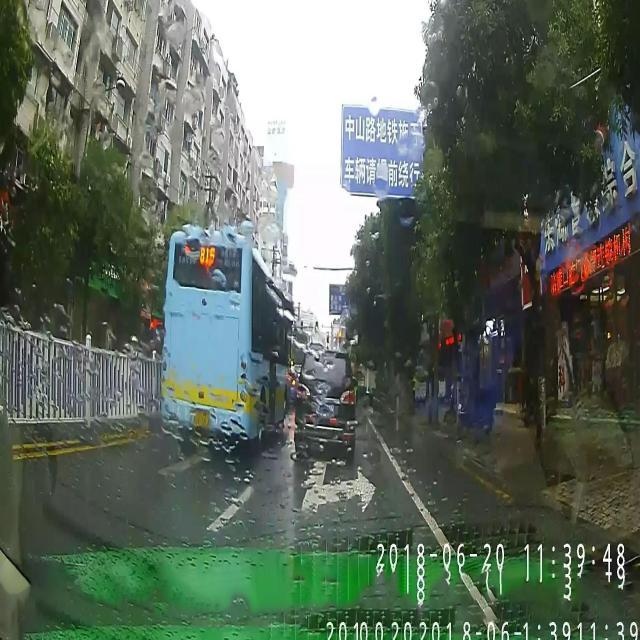car: (294, 342, 356, 465)
